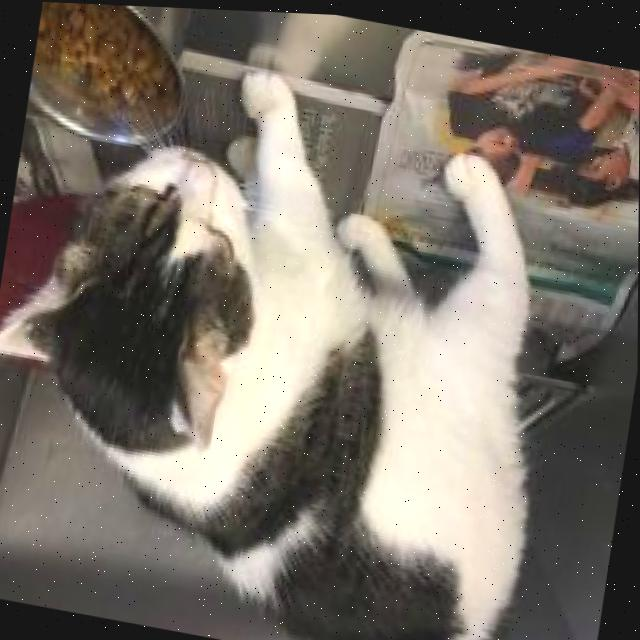American Bobtail: (0, 15, 596, 640)
